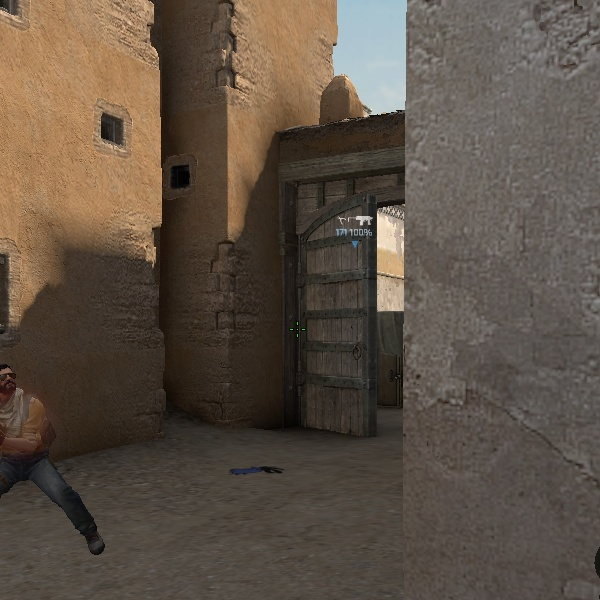t_body: (1, 364, 109, 551)
t_head: (1, 363, 16, 396)
